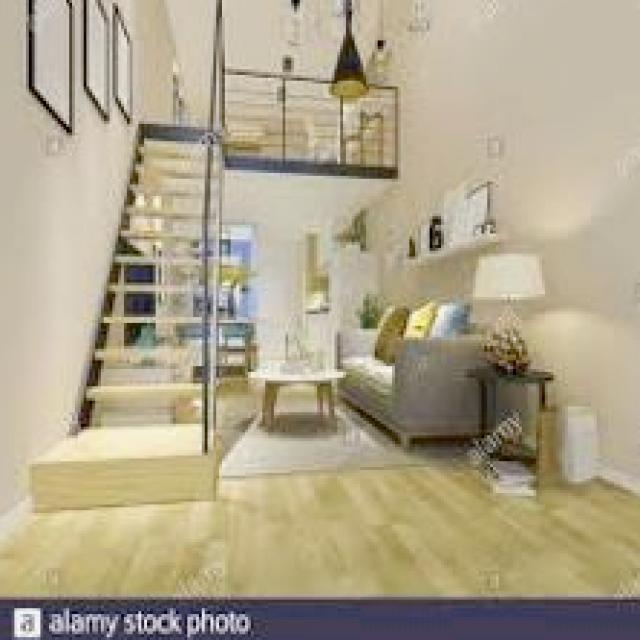upstair: (53, 255, 232, 465)
